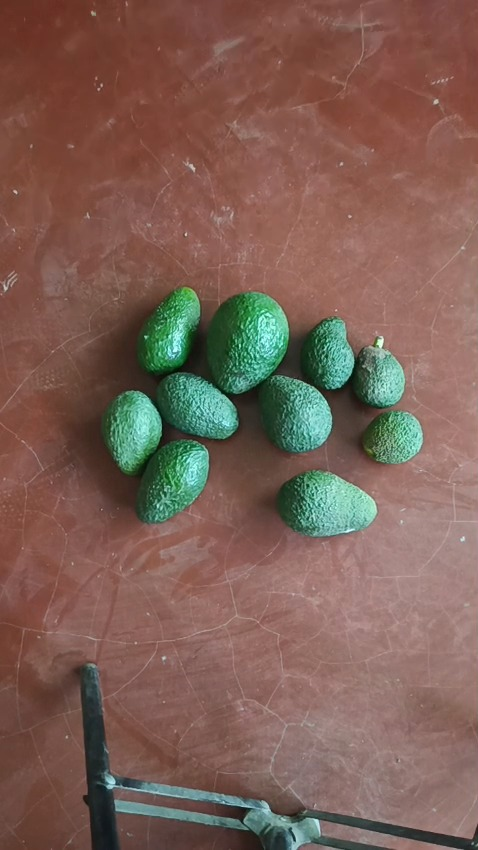Primera: (206, 292, 290, 393)
Segunda: (276, 469, 377, 535), (135, 439, 210, 521), (258, 374, 333, 453), (136, 286, 202, 375), (155, 372, 240, 440), (101, 390, 163, 475)
Tercera: (299, 317, 355, 392), (352, 335, 406, 408), (362, 410, 423, 464)
